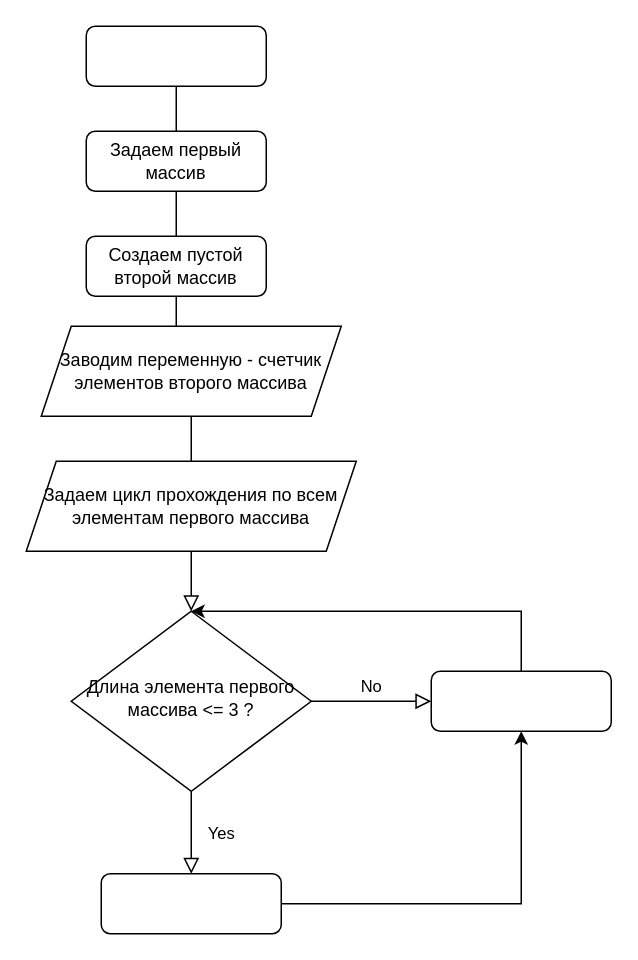
This 638x960 diagram has some shape labels left out. The centre of each missing label's shape, as x and y in pixels:
"Start" belongs at pixel 175 55.
"Копируем элемент во второй массив" belongs at pixel 190 903.
"Переходим к следующему элементу" belongs at pixel 520 700.
